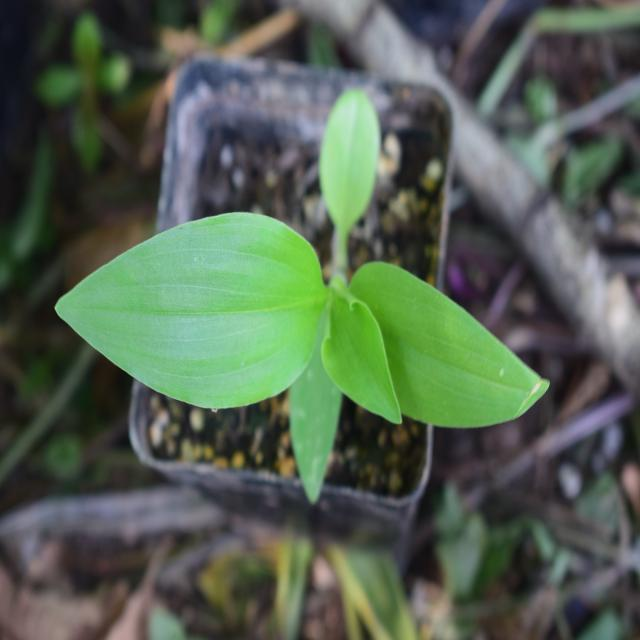Common Dayflower: (56, 182, 560, 492)
